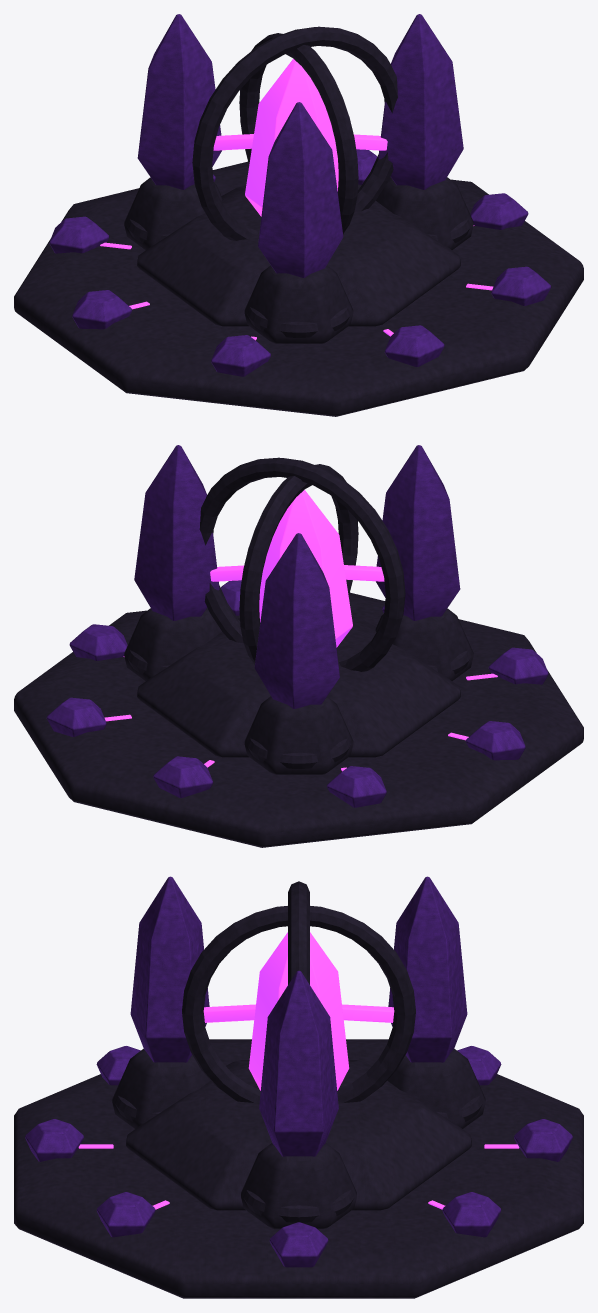
Rendered from conclave_cur_de_cristal.gltf.
3 views of the same model, one above another, from view 1: azimuth 30°, elevation 25°; view 2: azimuth 150°, elevation 25°; view 3: azimuth 270°, elevation 25° (orthographic). The views are drawn at different scales.
Parts seen in each view (by area): view 1: Root.002_Geometry, Rotor_0.001_Geometry; view 2: Root.002_Geometry, Rotor_0.001_Geometry; view 3: Root.002_Geometry, Rotor_0.001_Geometry.
Part boxes in pixels (x1,y1,x2,y2): Root.002_Geometry: [14, 14, 583, 416]; Rotor_0.001_Geometry: [192, 26, 397, 240]; Root.002_Geometry: [14, 445, 583, 847]; Rotor_0.001_Geometry: [199, 457, 405, 671]; Root.002_Geometry: [14, 876, 583, 1298]; Rotor_0.001_Geometry: [182, 881, 415, 1102].
Bounding box in the file's own units: 3.92 × 2.18 × 3.92.
Materials: 3 (2 with a texture image).
